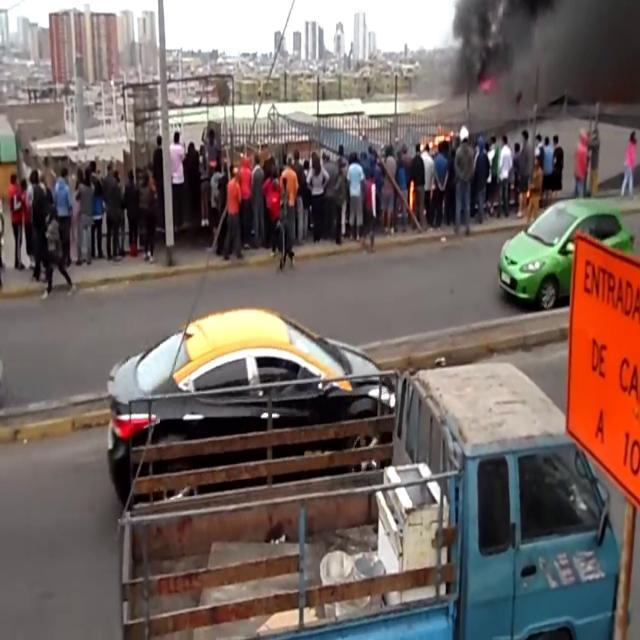Smoke: (427, 0, 640, 132)
